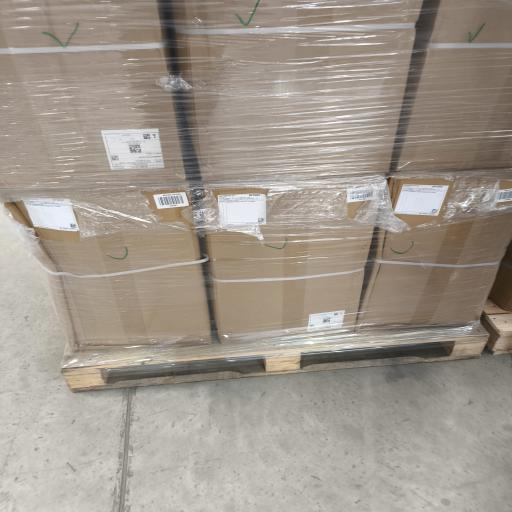pallet: (62, 325, 488, 391), (482, 300, 511, 354)
